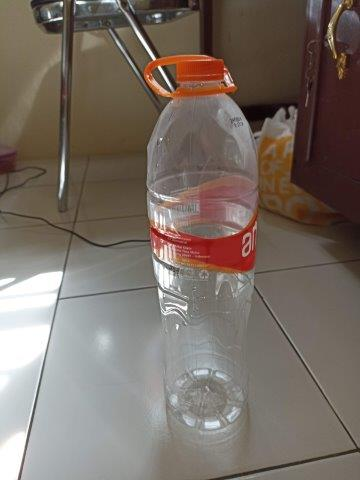botolplastik: (143, 54, 254, 445)
